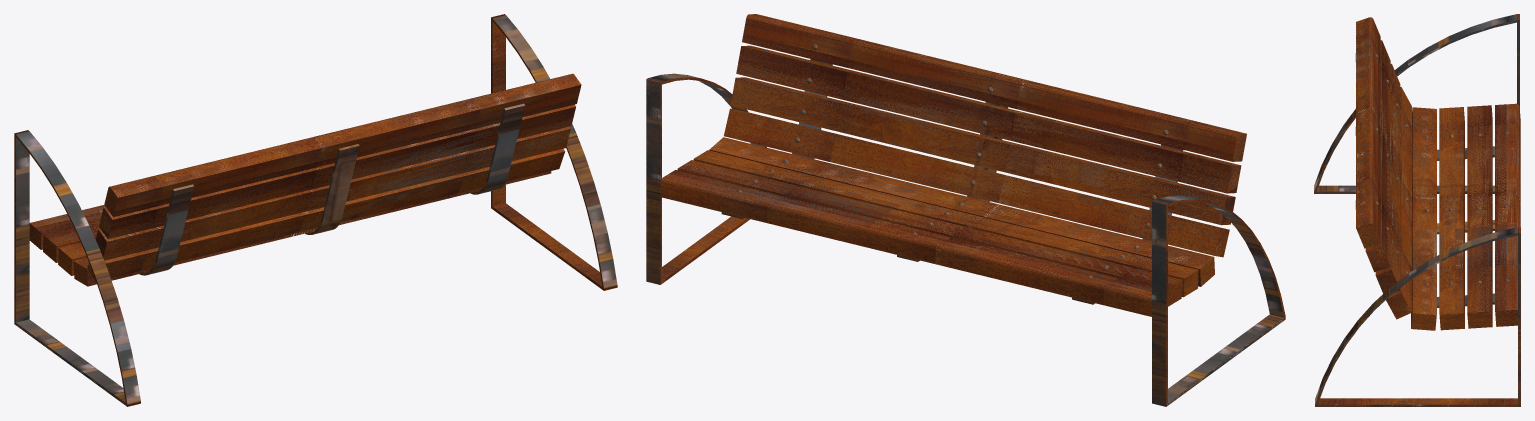
3 renders of one model, left to right at view 1: azimuth 30°, elevation 25°; view 2: azimuth 150°, elevation 25°; view 3: azimuth 270°, elevation 25°, orthographic. The views are drawn at different scales.
Parts seen in each view (by area): view 1: mesh3_mesh3-geometry, mesh1_mesh1-geometry, mesh4_mesh4-geometry, mesh8_mesh8-geometry, mesh2_mesh2-geometry, mesh13_mesh13-geometry, mesh6_mesh6-geometry, mesh14_mesh14-geometry, mesh9_mesh9-geometry, mesh7_mesh7-geometry; view 2: mesh3_mesh3-geometry, mesh4_mesh4-geometry, mesh1_mesh1-geometry, mesh8_mesh8-geometry, mesh14_mesh14-geometry, mesh7_mesh7-geometry, mesh9_mesh9-geometry; view 3: mesh3_mesh3-geometry, mesh9_mesh9-geometry, mesh1_mesh1-geometry, mesh7_mesh7-geometry, mesh14_mesh14-geometry, mesh8_mesh8-geometry, mesh4_mesh4-geometry.
Part boxes in pixels (<box>): mesh3_mesh3-geometry: <box>14,14,617,406</box>; mesh1_mesh1-geometry: <box>104,73,581,216</box>; mesh4_mesh4-geometry: <box>99,104,575,238</box>; mesh8_mesh8-geometry: <box>87,148,565,281</box>; mesh2_mesh2-geometry: <box>139,184,194,275</box>; mesh13_mesh13-geometry: <box>470,103,525,194</box>; mesh6_mesh6-geometry: <box>305,144,359,234</box>; mesh14_mesh14-geometry: <box>73,171,551,286</box>; mesh9_mesh9-geometry: <box>43,221,99,262</box>; mesh7_mesh7-geometry: <box>58,239,95,275</box>; mesh3_mesh3-geometry: <box>646,73,1285,406</box>; mesh4_mesh4-geometry: <box>736,45,1241,193</box>; mesh1_mesh1-geometry: <box>742,14,1246,161</box>; mesh8_mesh8-geometry: <box>724,108,1229,257</box>; mesh14_mesh14-geometry: <box>709,137,1214,286</box>; mesh7_mesh7-geometry: <box>693,150,1198,297</box>; mesh9_mesh9-geometry: <box>677,160,1182,306</box>; mesh3_mesh3-geometry: <box>1314,14,1520,406</box>; mesh9_mesh9-geometry: <box>1467,105,1492,328</box>; mesh1_mesh1-geometry: <box>1356,17,1380,248</box>; mesh7_mesh7-geometry: <box>1439,107,1464,330</box>; mesh14_mesh14-geometry: <box>1411,107,1436,330</box>; mesh8_mesh8-geometry: <box>1386,87,1411,319</box>; mesh4_mesh4-geometry: <box>1365,40,1390,272</box>.
Bounding box in the file's own units: 0.8755 × 0.3323 × 0.3507.
